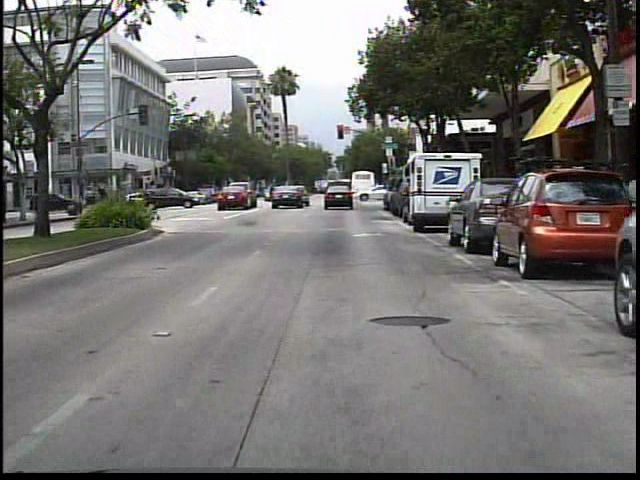person: (263, 182, 278, 206)
